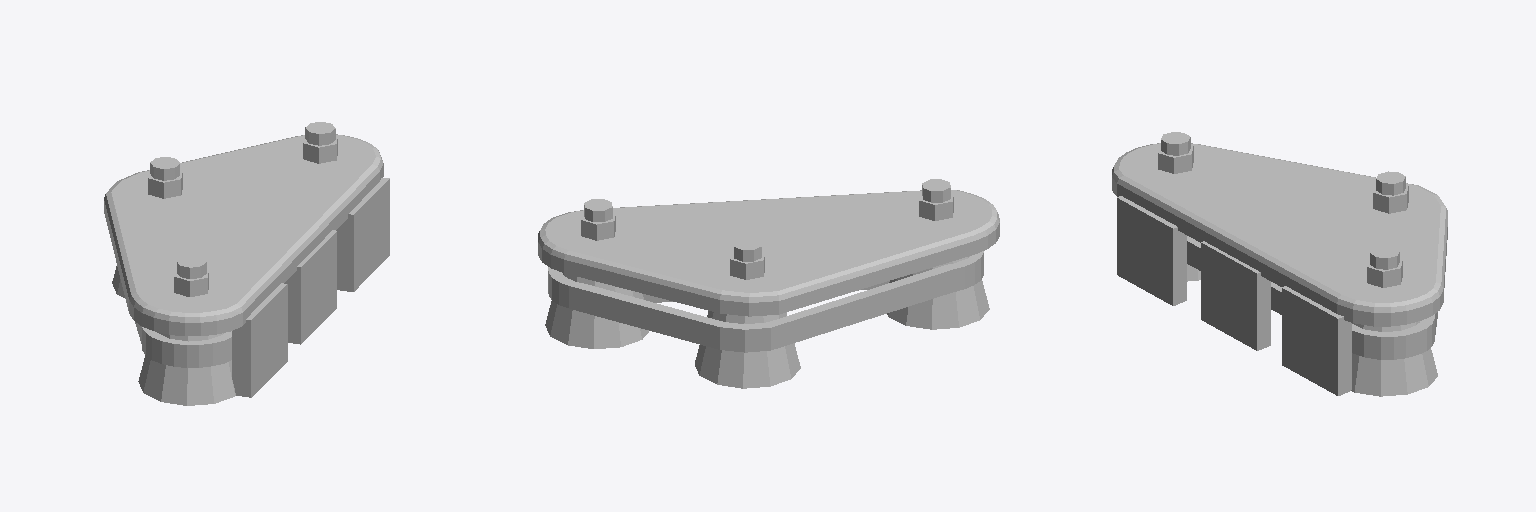
File: TargetBumper1.obj
3 renders of one model, left to right at view 1: azimuth 30°, elevation 25°; view 2: azimuth 150°, elevation 25°; view 3: azimuth 270°, elevation 25°, orthographic.
Visible parts, largest first — view 1: SmallBumper_Base_Untitled.041; view 2: SmallBumper_Base_Untitled.041; view 3: SmallBumper_Base_Untitled.041.
Boxes of the visible parts, <box> form: SmallBumper_Base_Untitled.041: <box>104,122,389,405</box>; SmallBumper_Base_Untitled.041: <box>538,179,999,388</box>; SmallBumper_Base_Untitled.041: <box>1112,132,1447,396</box>.
Size of the model in its own units: 0.1163 by 0.0397 by 0.0992.